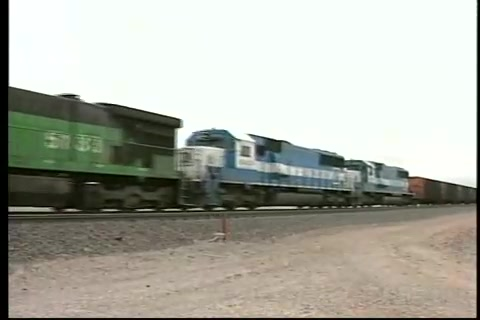train: (10, 84, 478, 213)
